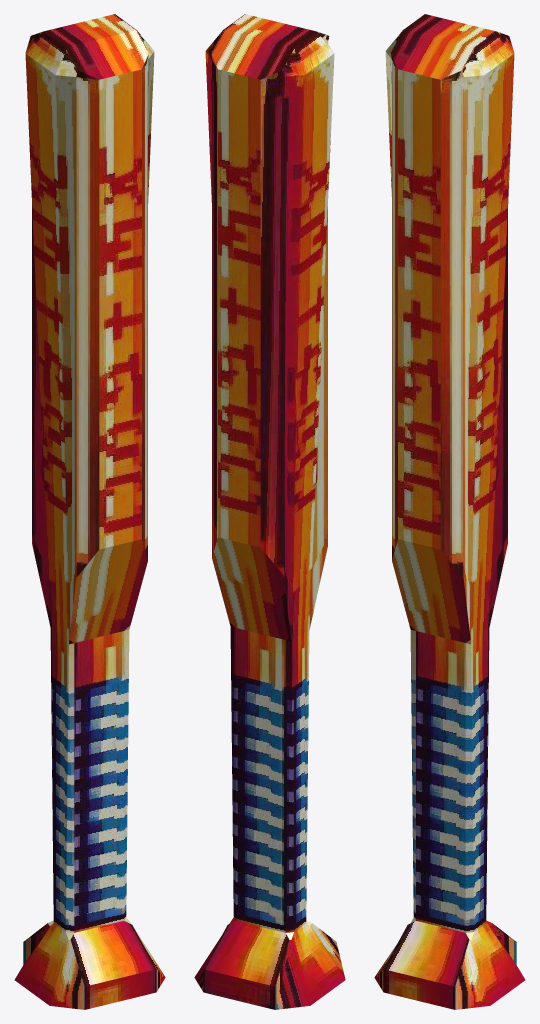
The model's file is BaseballBat.glb.
3 views of the same model, side by side, from view 1: azimuth 30°, elevation 25°; view 2: azimuth 150°, elevation 25°; view 3: azimuth 330°, elevation 25° (orthographic).
Parts seen in each view (by area): view 1: OIG2 (27); view 2: OIG2 (27); view 3: OIG2 (27).
Part boxes in pixels (bbox=[...]): OIG2 (27): bbox=[14, 14, 165, 1009]; OIG2 (27): bbox=[194, 14, 345, 1009]; OIG2 (27): bbox=[374, 14, 525, 1009].
Bounding box in the file's own units: 0.1036 × 0.8089 × 0.0948.
1 material, 1 textured.
